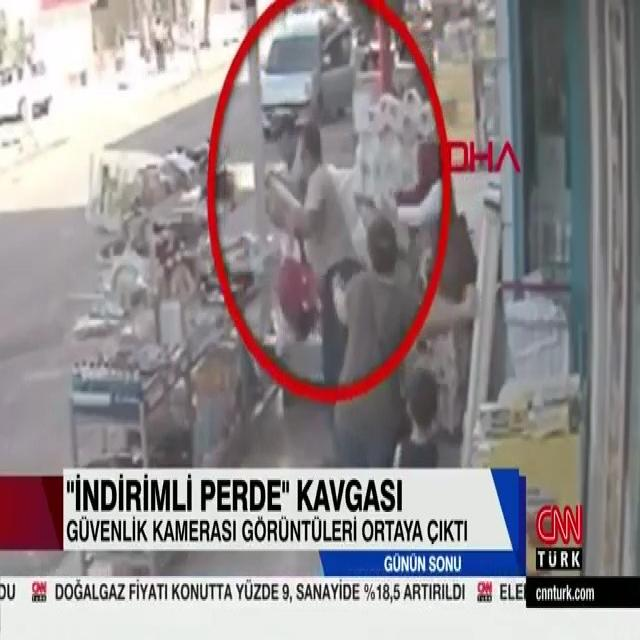fight: (260, 104, 364, 318)
